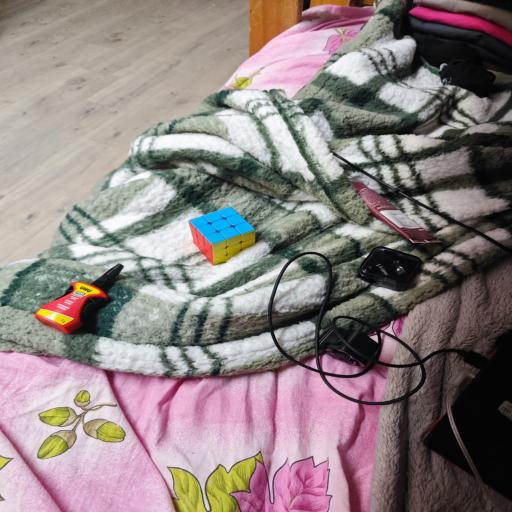Hand Cream: (345, 177, 445, 247)
Rubiks Cube: (182, 204, 254, 263)
Super Glue: (35, 262, 124, 336)
